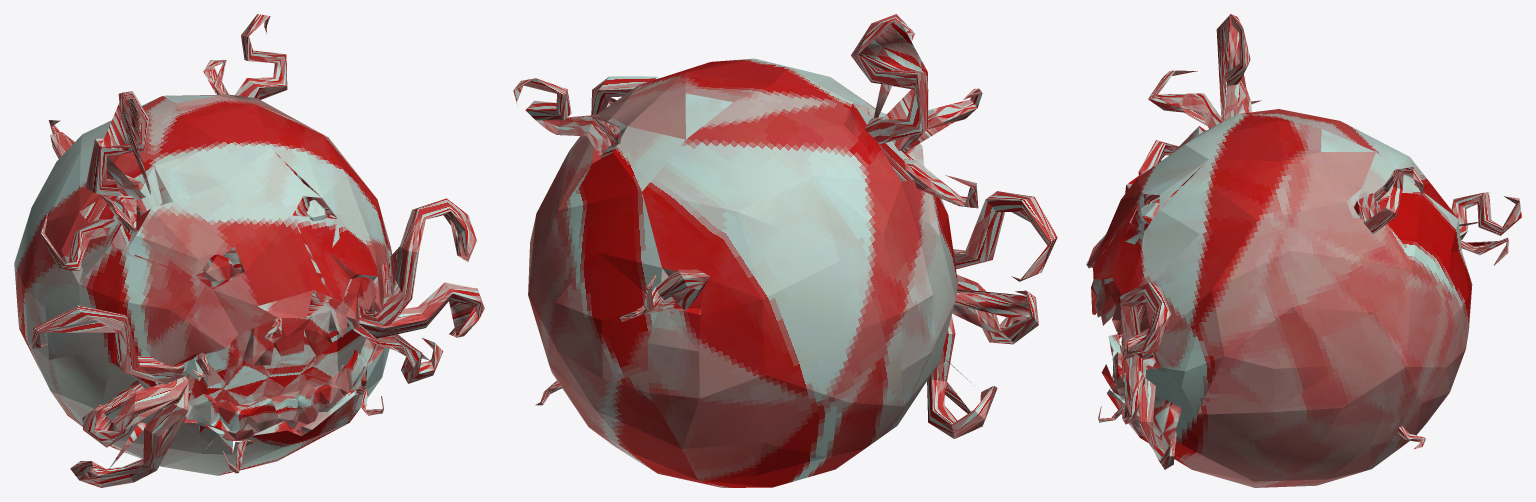
Rendered from item_squishy_gold_smiley.glb.
The picture shows the model from 3 angles, left to right: view 1: azimuth 30°, elevation 25°; view 2: azimuth 150°, elevation 25°; view 3: azimuth 270°, elevation 25°; orthographic projection. The views are drawn at different scales.
Visible parts, largest first — view 1: toy_smiley; view 2: toy_smiley; view 3: toy_smiley.
Boxes of the visible parts, x1,y1,x2,y2 form: toy_smiley: [14, 14, 484, 487]; toy_smiley: [513, 14, 1057, 487]; toy_smiley: [1086, 14, 1521, 487].
Size of the model in its own units: 0.1758 by 0.1618 by 0.1581.
Materials: 1 (1 with a texture image).
